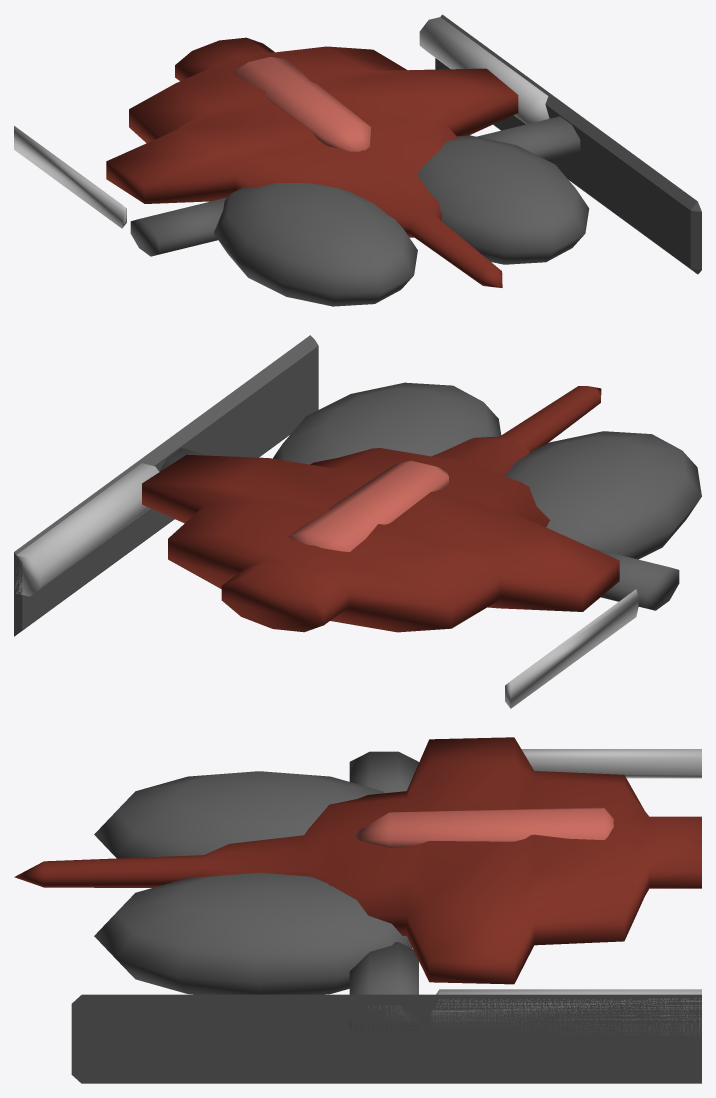
Rendered from newsh8-79.glb.
3 views of the same model, one above another, from view 1: azimuth 30°, elevation 25°; view 2: azimuth 150°, elevation 25°; view 3: azimuth 270°, elevation 25° (orthographic). The views are drawn at different scales.
Parts seen in each view (by area): view 1: newsh8-79; view 2: newsh8-79; view 3: newsh8-79.
Boxes of the visible parts, box(x1,y1,x2,y2) form: newsh8-79: box(14, 14, 701, 306); newsh8-79: box(14, 335, 701, 708); newsh8-79: box(14, 737, 701, 1083).
Bounding box in the file's own units: 2 × 0.4995 × 2.29.
